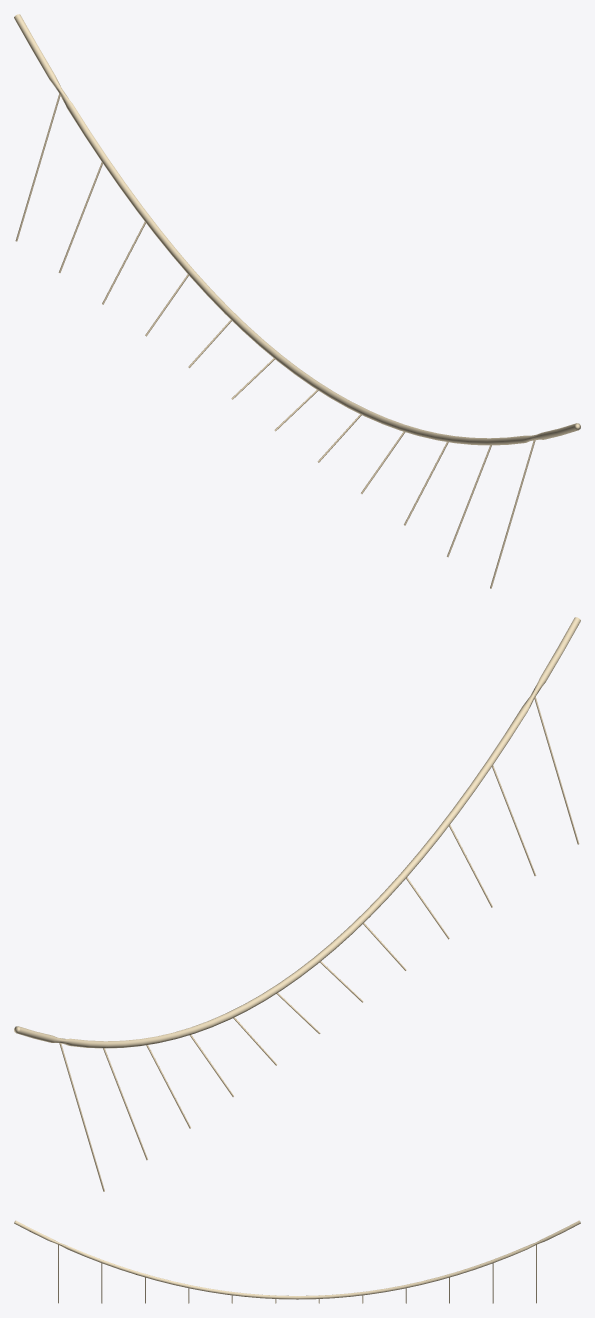
The model's file is SkateCable.glb.
3 views of the same model, one above another, from view 1: azimuth 30°, elevation 25°; view 2: azimuth 150°, elevation 25°; view 3: azimuth 270°, elevation 25° (orthographic). The views are drawn at different scales.
Visible parts, largest first — view 1: Rope, Hangers; view 2: Rope, Hangers; view 3: Rope, Hangers.
Part boxes in pixels (x1,y1,x2,y2): Rope: (14,14,580,445); Hangers: (15,94,535,588); Rope: (14,617,580,1048); Hangers: (59,697,579,1191); Rope: (14,1220,580,1299); Hangers: (58,1244,536,1303).
Size of the model in its own units: 4.76 by 17.59 by 96.32.
